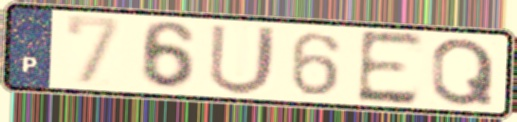6: (138, 18, 198, 93), (289, 30, 344, 99)
7: (63, 13, 128, 89)
E: (354, 28, 427, 108)
Q: (428, 36, 497, 108)
U: (205, 22, 280, 98)
